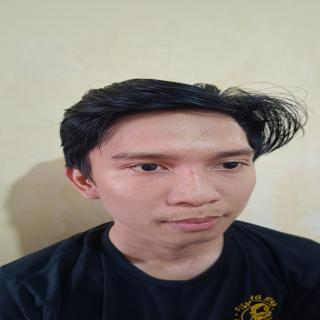Netral: (96, 103, 262, 249)
